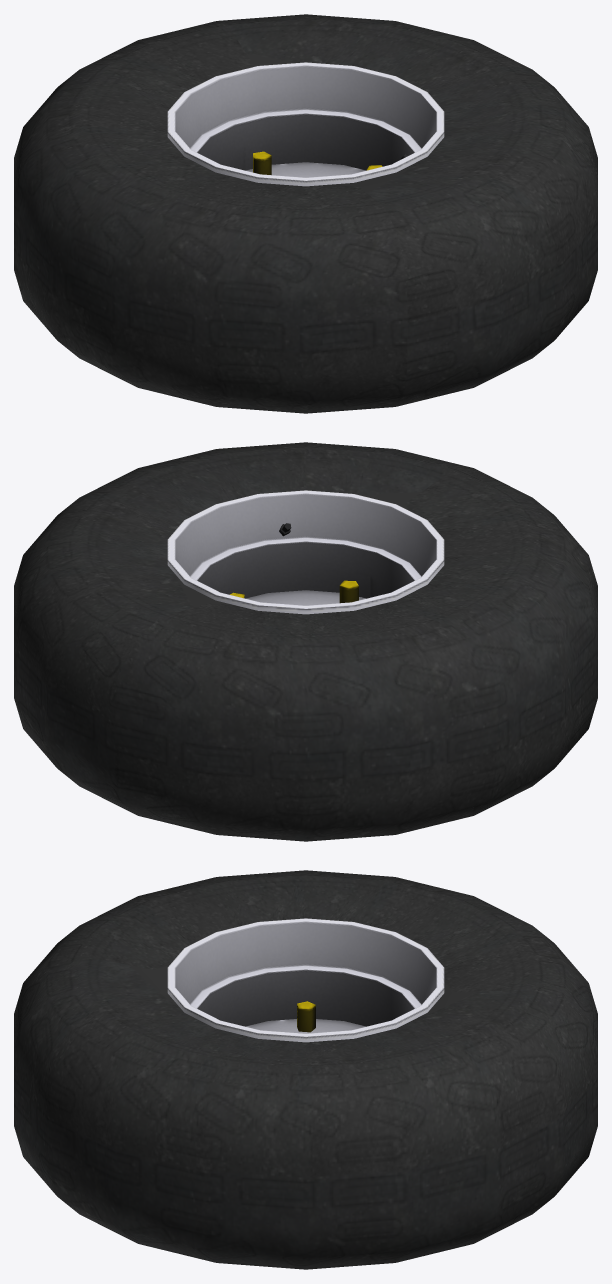
File: tire_right.obj
3 renders of one model, top to bottom at view 1: azimuth 30°, elevation 25°; view 2: azimuth 150°, elevation 25°; view 3: azimuth 270°, elevation 25°, orthographic.
Visible parts, largest first — view 1: tire, wheel; view 2: tire, wheel; view 3: tire, wheel.
Boxes of the visible parts, x1=… form: tire: x1=14, y1=14, x2=597, y2=413; wheel: x1=167, y1=62, x2=444, y2=186; tire: x1=14, y1=442, x2=597, y2=841; wheel: x1=167, y1=490, x2=444, y2=614; tire: x1=14, y1=870, x2=597, y2=1269; wheel: x1=167, y1=918, x2=444, y2=1042.
Bounding box in the file's own units: 0.5322 × 0.1932 × 0.524.
Materials: 2 (2 with a texture image).
